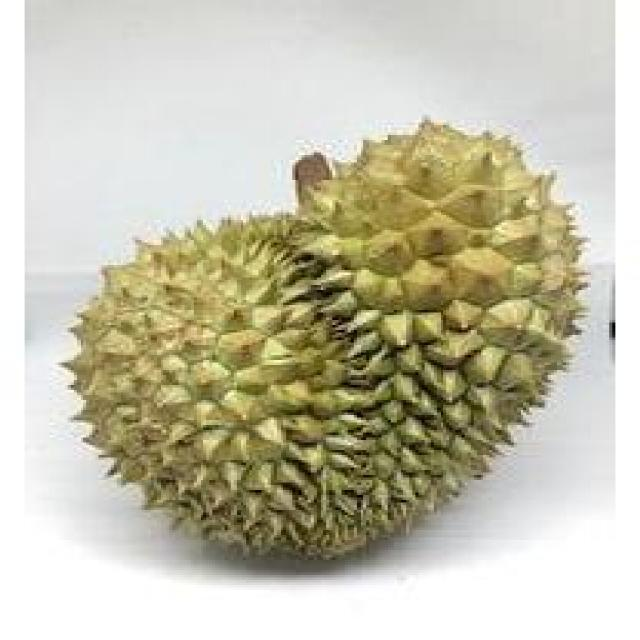fruit: (43, 192, 419, 600), (267, 162, 618, 598)
